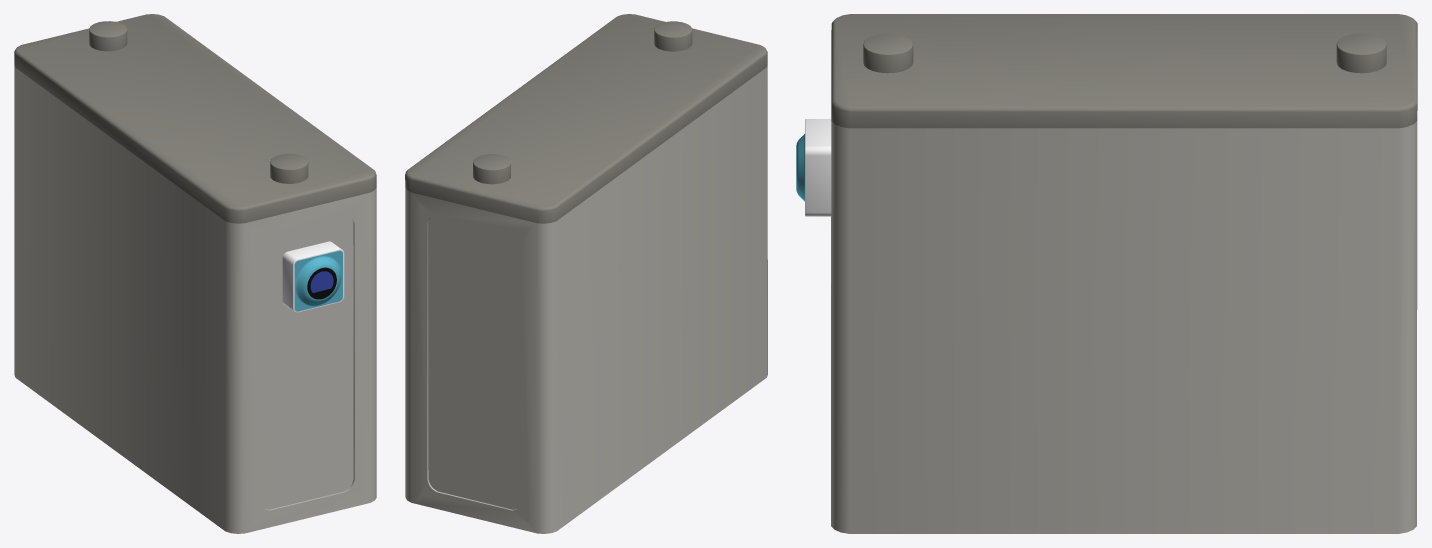
Rendered from Dianchi.FBX.
3 views of the same model, side by side, from view 1: azimuth 30°, elevation 25°; view 2: azimuth 150°, elevation 25°; view 3: azimuth 270°, elevation 25° (orthographic). The views are drawn at different scales.
Parts seen in each view (by area): view 1: dianchi_01; view 2: dianchi_01; view 3: dianchi_01.
Part boxes in pixels (x1,y1,x2,y2): dianchi_01: (14, 14, 376, 533); dianchi_01: (405, 14, 767, 533); dianchi_01: (796, 14, 1417, 533).
Bounding box in the file's own units: 15.87 × 34.26 × 43.4.
3 materials, 2 textured.
